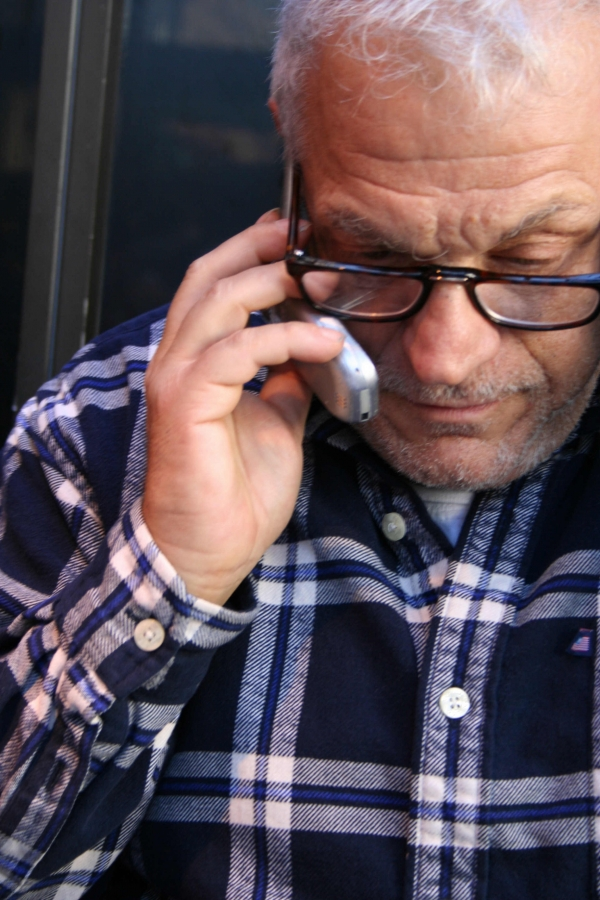phone: (202, 184, 395, 433)
talk: (151, 125, 600, 542)
